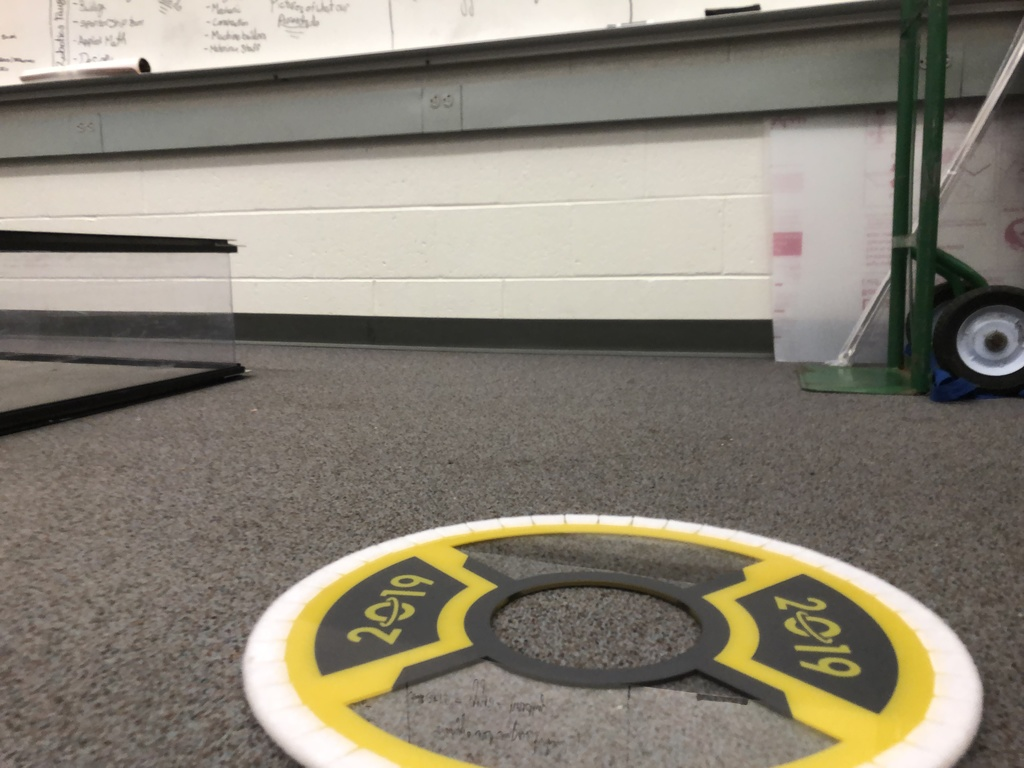hatch_panel: (226, 499, 1011, 768)
